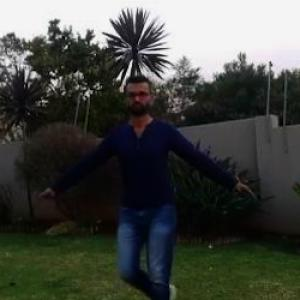land: (76, 100, 225, 282)
